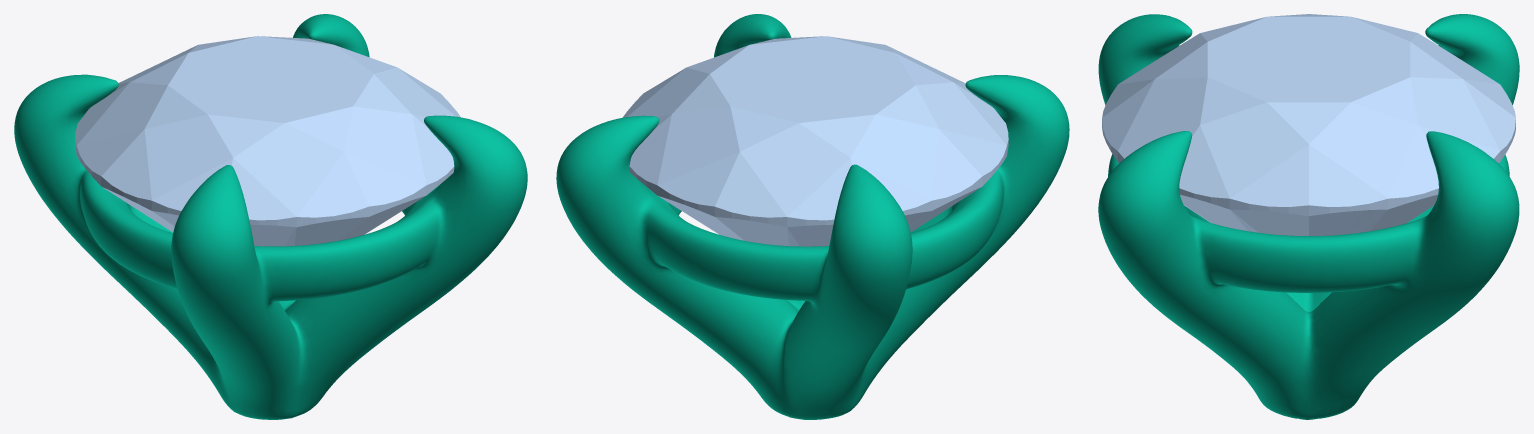
The model's file is 4 Prong Round_1.00ct.glb.
The picture shows the model from 3 angles, left to right: view 1: azimuth 30°, elevation 25°; view 2: azimuth 150°, elevation 25°; view 3: azimuth 270°, elevation 25°; orthographic projection. The views are drawn at different scales.
Visible parts, largest first — view 1: /4 Prong Round_1.50ct.3dm, Diamond_Round; view 2: /4 Prong Round_1.50ct.3dm, Diamond_Round; view 3: /4 Prong Round_1.50ct.3dm, Diamond_Round.
Boxes of the visible parts, x1,y1,x2,y2 form: /4 Prong Round_1.50ct.3dm: (14, 14, 527, 419); Diamond_Round: (75, 36, 460, 246); /4 Prong Round_1.50ct.3dm: (556, 14, 1069, 419); Diamond_Round: (623, 36, 1008, 246); /4 Prong Round_1.50ct.3dm: (1098, 14, 1519, 419); Diamond_Round: (1102, 14, 1515, 235).
Bounding box in the file's own units: 6.62 × 5.97 × 6.61.
